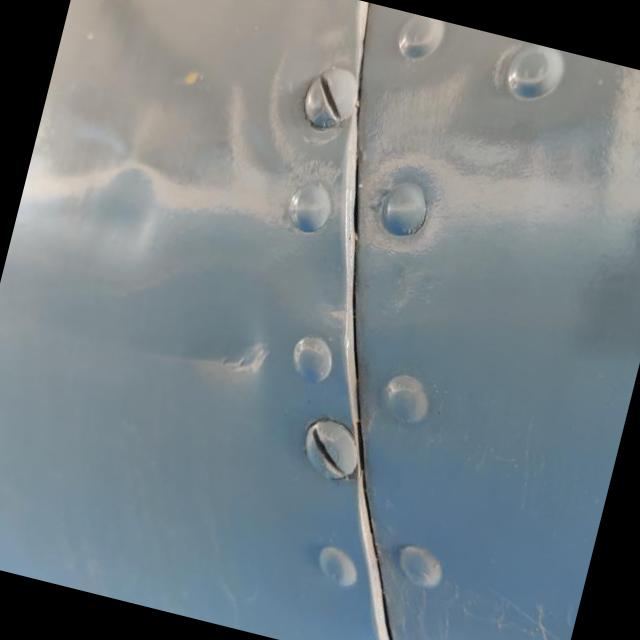Dent: (176, 321, 270, 382)
